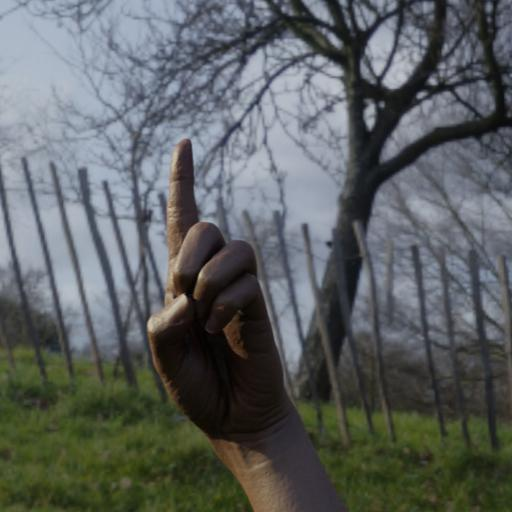D: (141, 132, 300, 447)
